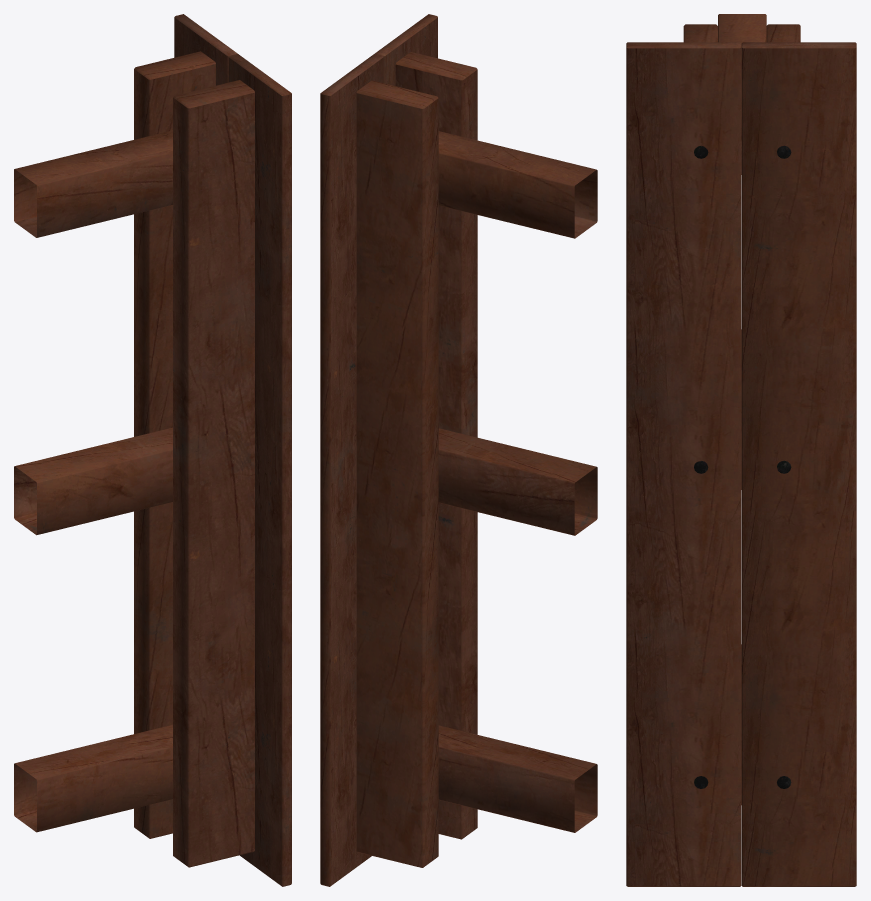
The model's file is cP_Bench12.dae.
The picture shows the model from 3 angles, left to right: view 1: azimuth 30°, elevation 25°; view 2: azimuth 150°, elevation 25°; view 3: azimuth 270°, elevation 25°; orthographic projection. The views are drawn at different scales.
Visible parts, largest first — view 1: cP_Bench12.001; view 2: cP_Bench12.001; view 3: cP_Bench12.001.
Boxes of the visible parts, box(x1,y1,x2,y2) form: cP_Bench12.001: box(14, 14, 291, 886); cP_Bench12.001: box(320, 14, 597, 886); cP_Bench12.001: box(626, 14, 856, 886).
Size of the model in its own units: 0.5638 by 0.4962 by 2.
